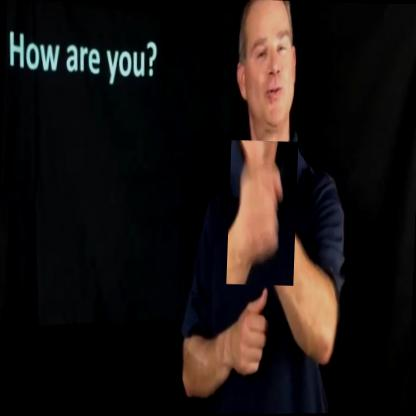HowAreYou: (226, 141, 298, 287)
